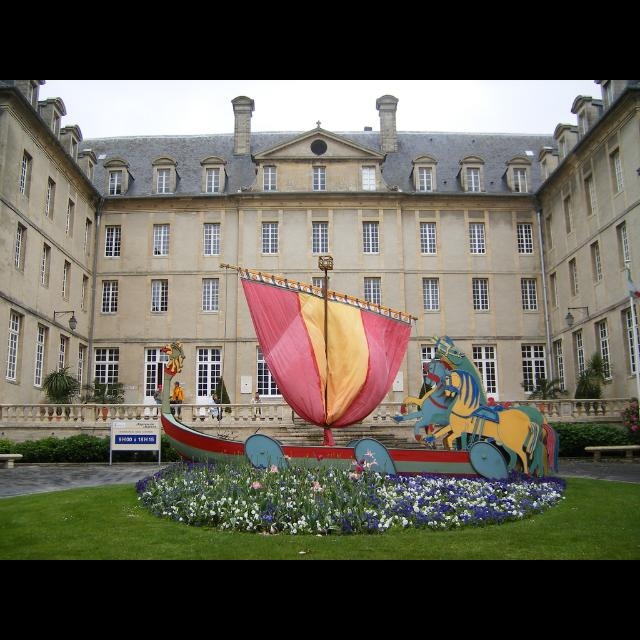Flower: (137, 452, 568, 546), (378, 517, 382, 523)
